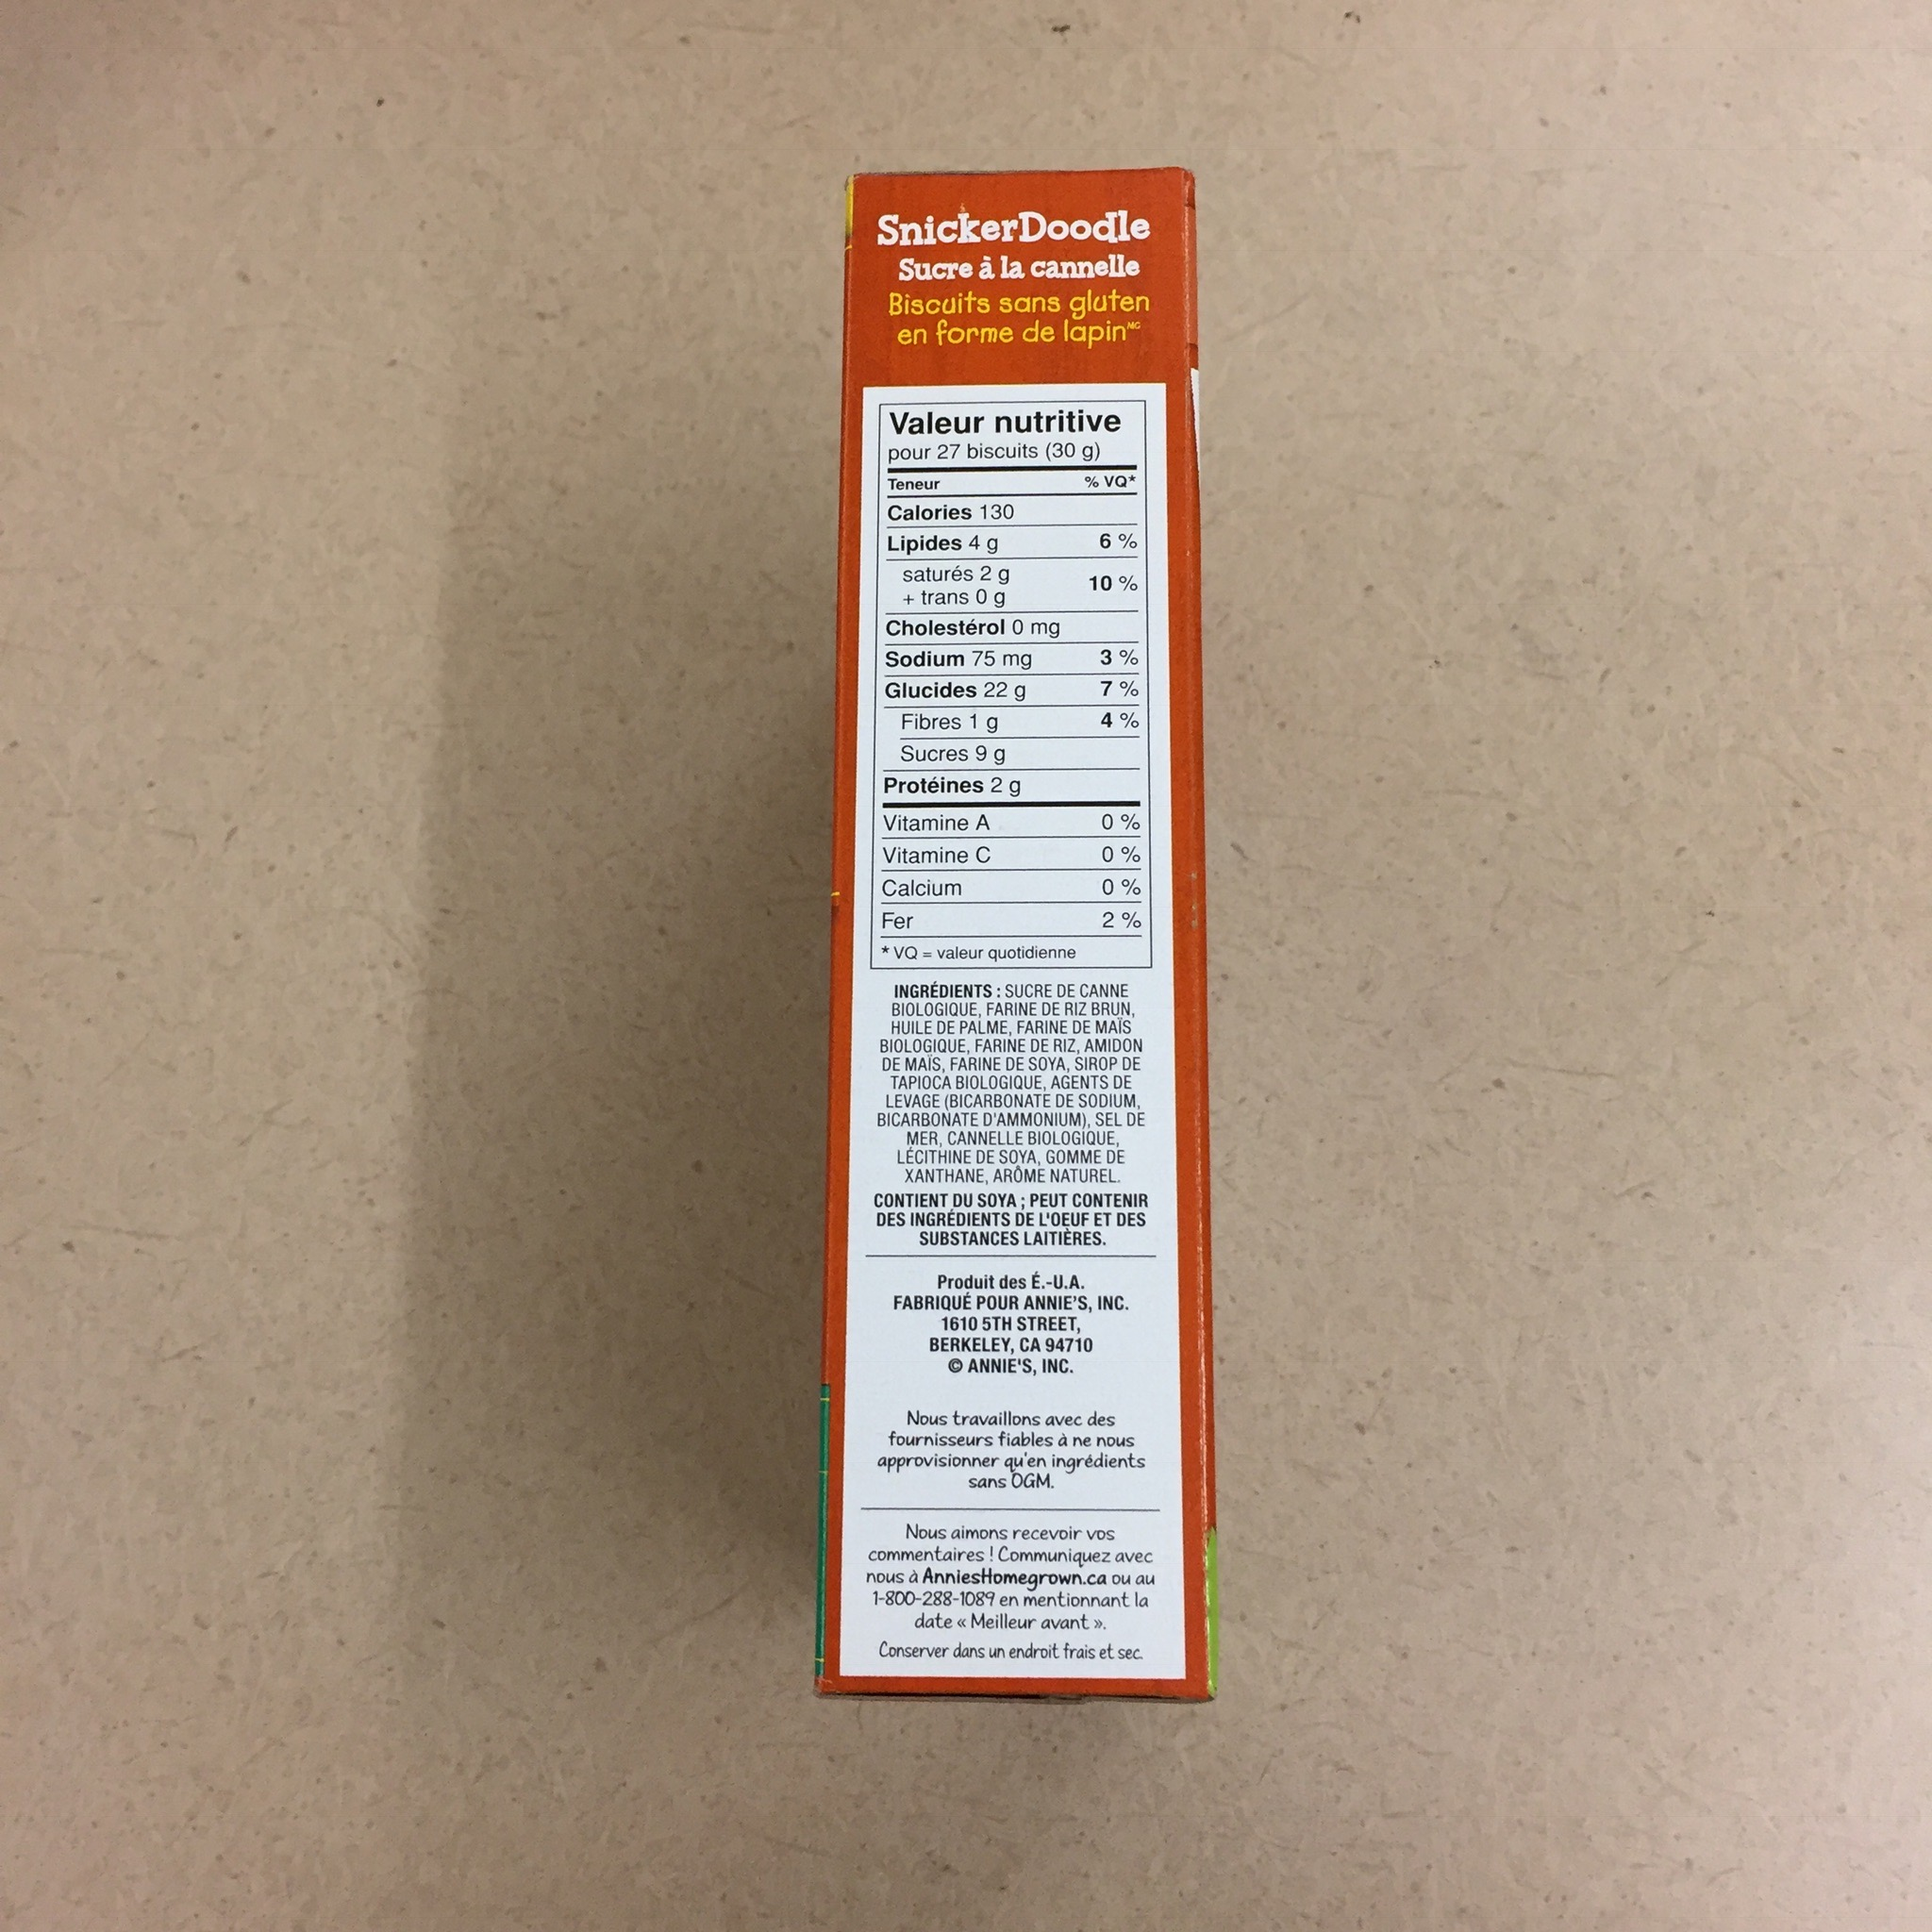annies_snickerdoodle_cinnamon_sugar: (807, 165, 1228, 1709)
